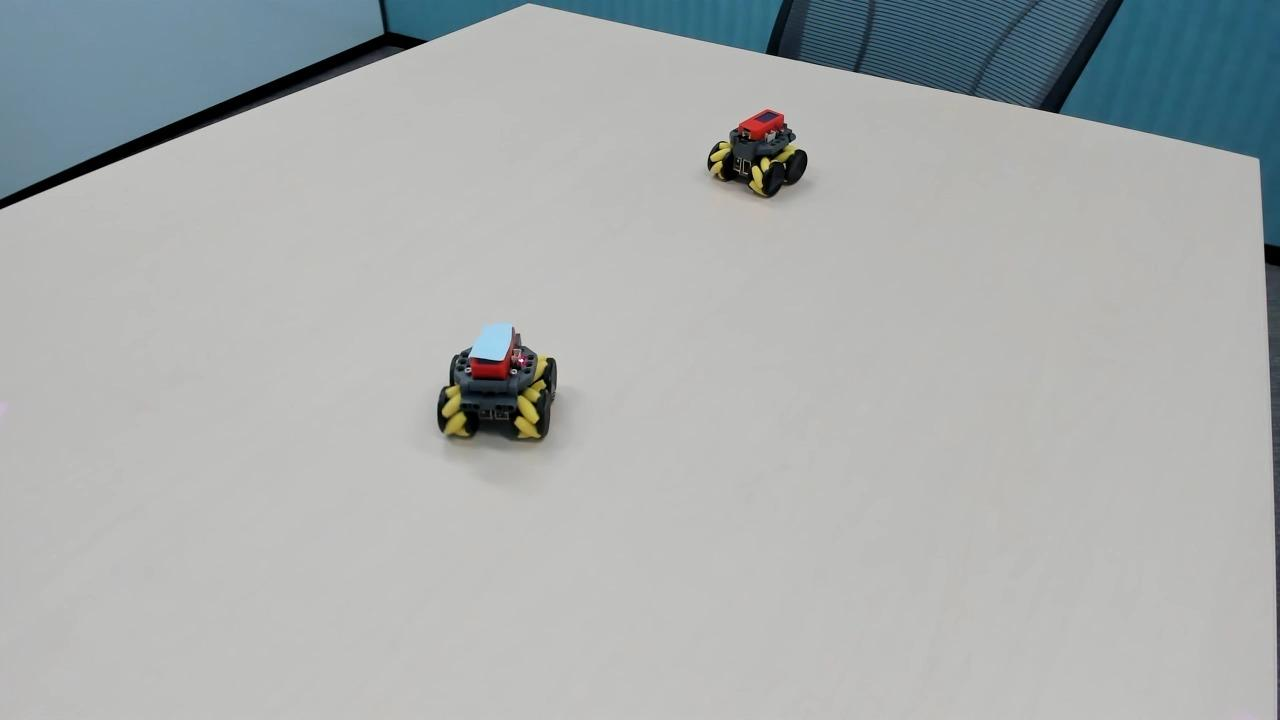B-Robot: (428, 313, 570, 454)
R-Robot: (696, 93, 811, 207)
